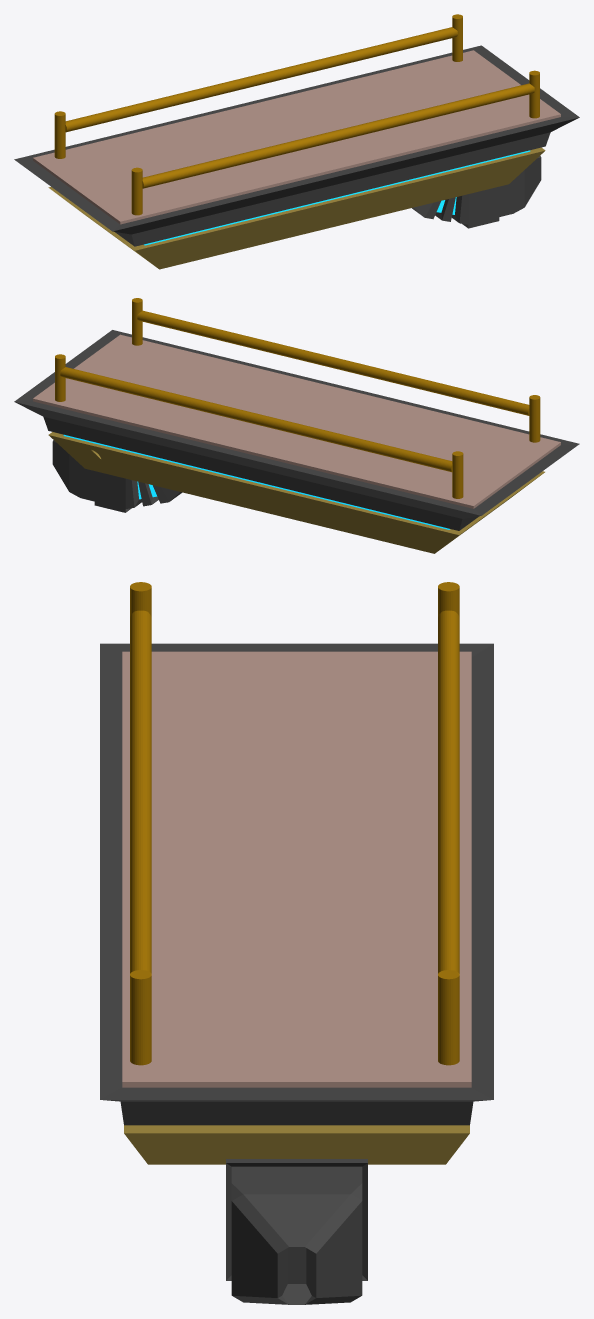
The model's file is Platform1.fbx.
The picture shows the model from 3 angles, top to bottom: view 1: azimuth 30°, elevation 25°; view 2: azimuth 150°, elevation 25°; view 3: azimuth 270°, elevation 25°; orthographic projection. The views are drawn at different scales.
Visible parts, largest first — view 1: Cube, Cylinder.002, Cylinder.001, Cube.001; view 2: Cube, Cylinder.001, Cylinder.002, Cube.001; view 3: Cube, Cube.001, Cylinder.002, Cylinder.001.
Boxes of the visible parts, x1,y1,x2,y2 form: Cube: (14,45,579,269); Cylinder.002: (131,70,539,215); Cylinder.001: (54,14,462,158); Cube.001: (412,155,541,228); Cube: (14,330,579,553); Cylinder.001: (55,354,463,498); Cylinder.002: (132,298,540,442); Cube.001: (52,440,182,512); Cube: (100,643,493,1164); Cube.001: (226,1159,367,1304); Cylinder.002: (130,582,151,1065); Cylinder.001: (438,582,459,1065).
Size of the model in its own units: 2419 by 782 by 871.
